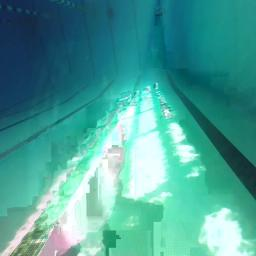Full: (153, 7, 166, 18)
